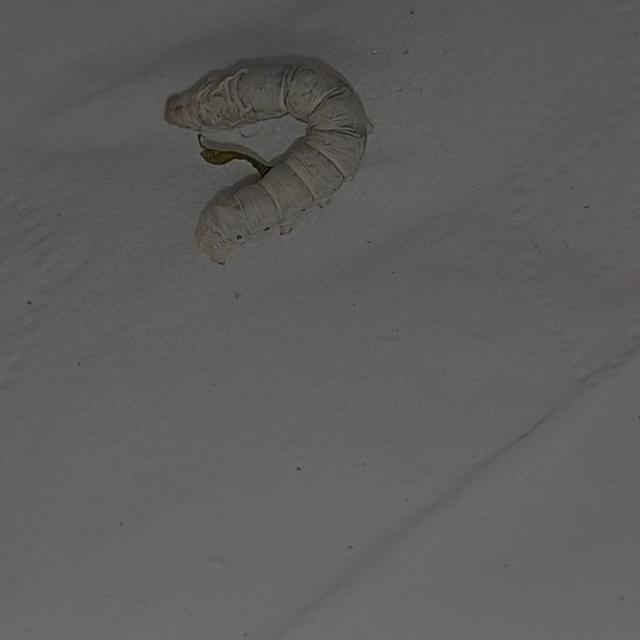Healthy: (151, 40, 412, 294)
